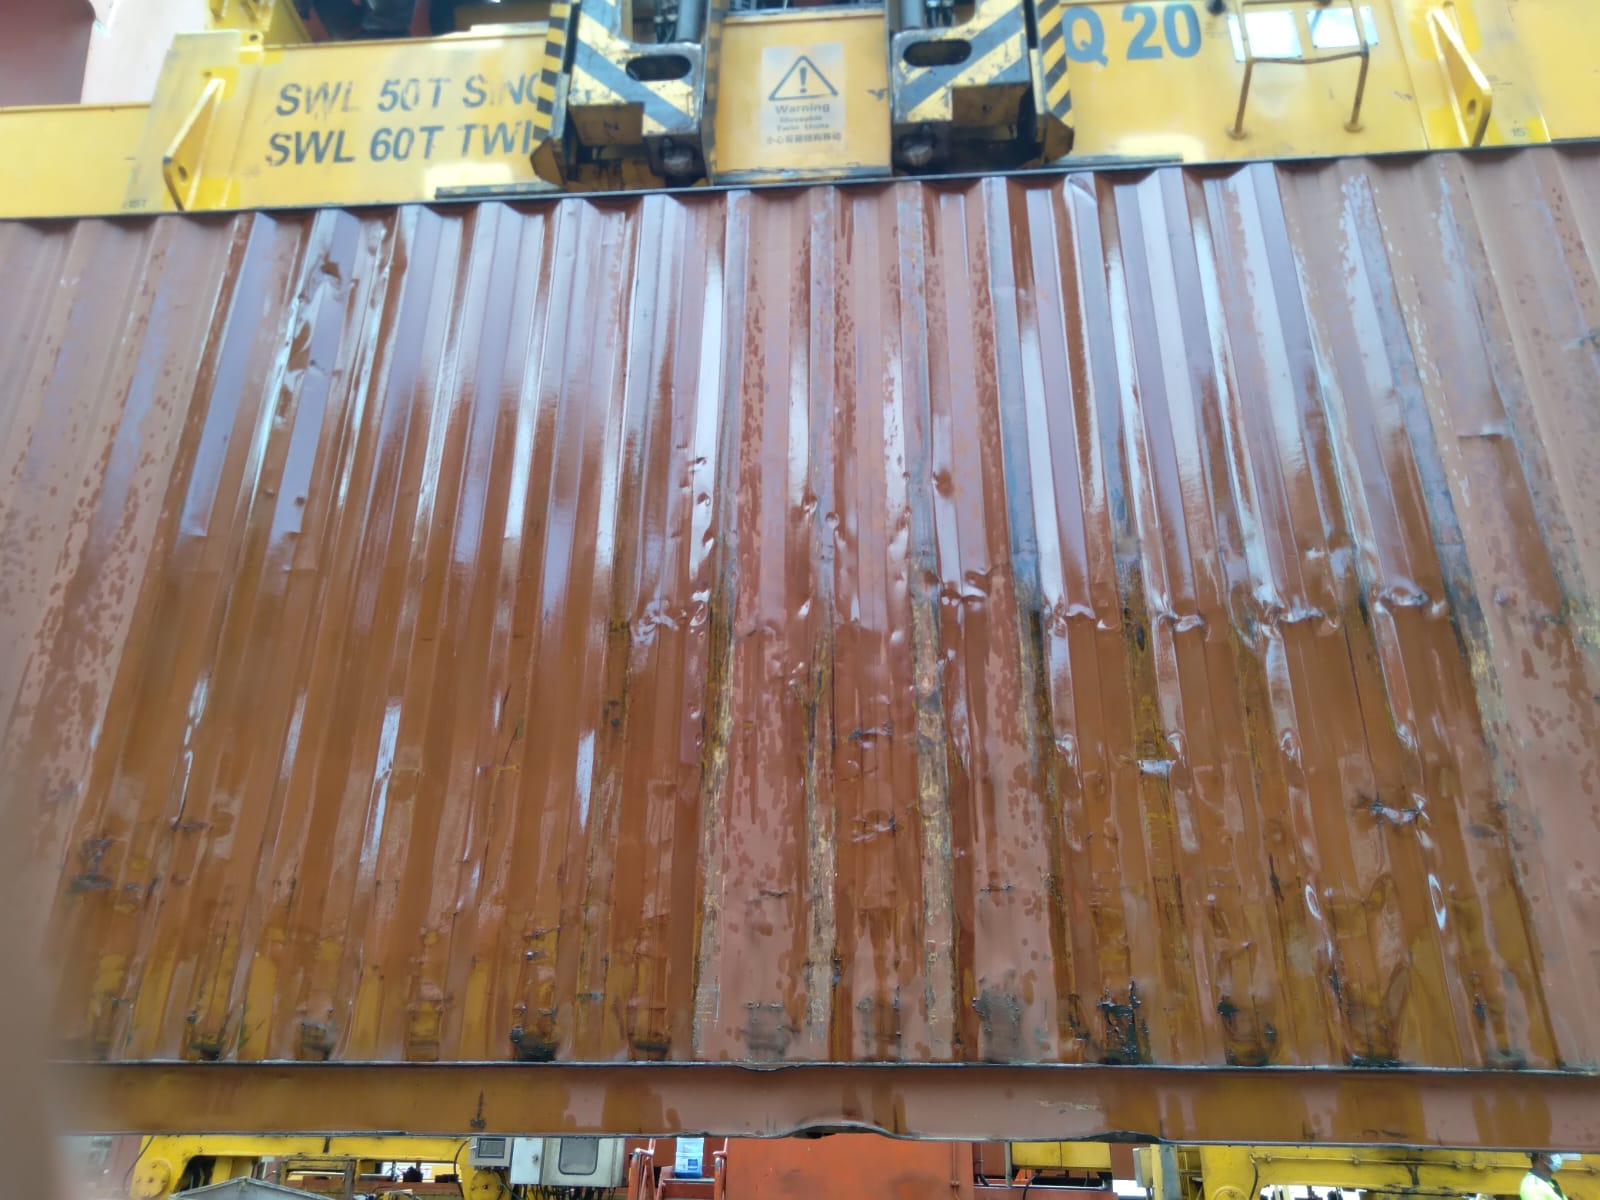dented: (1022, 780, 1445, 1022), (562, 466, 898, 769), (906, 543, 1478, 706)
